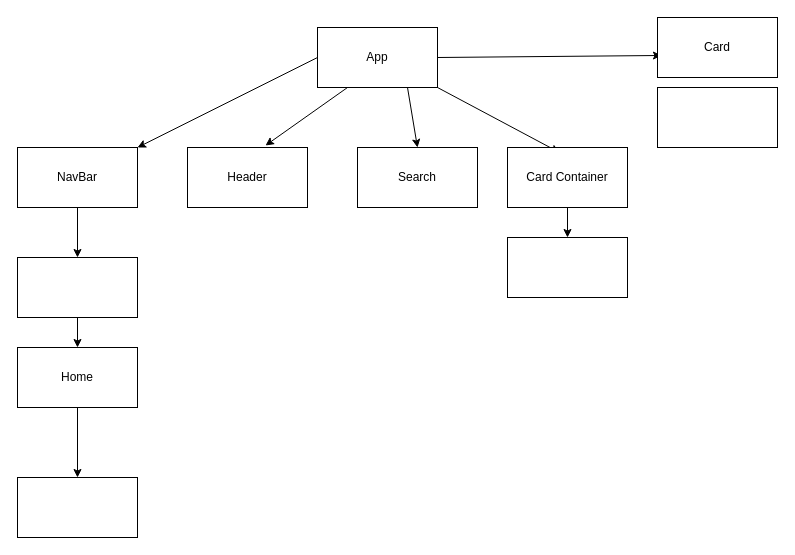
Some shapes in this 795 by 555 pixel diagram are drawn without their labels. Here are the shapes that lost their labels. From the top down, the centre of each, then its label:
At pixel 717 117: "Card Details".
At pixel 77 287: "About".
At pixel 567 267: "Filter".
At pixel 77 507: "Favorites".
